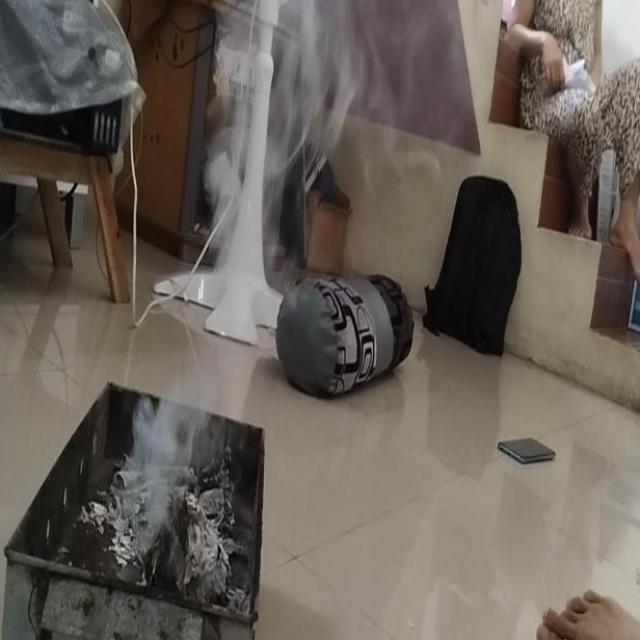fire: (208, 0, 452, 171), (122, 357, 208, 532)
